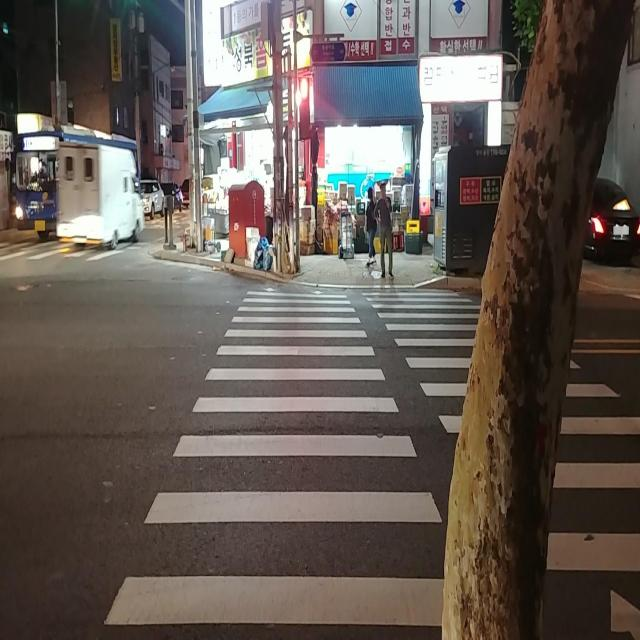횡단보도: (102, 286, 640, 639)
